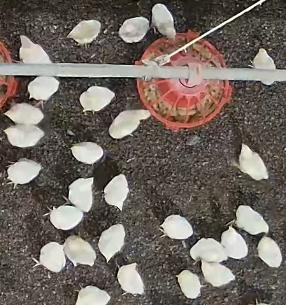chick: (234, 142, 270, 183), (108, 109, 152, 140), (229, 204, 270, 236), (63, 233, 97, 268), (35, 239, 68, 274), (18, 33, 51, 68), (102, 173, 130, 213), (250, 48, 278, 87), (64, 177, 95, 212), (200, 259, 237, 288), (97, 223, 125, 261), (26, 75, 60, 106), (116, 261, 145, 297), (7, 157, 40, 188), (3, 124, 47, 147), (189, 238, 226, 265), (78, 87, 115, 113), (151, 3, 177, 40), (67, 20, 100, 49), (117, 16, 150, 44), (256, 235, 282, 270), (6, 102, 42, 127), (45, 207, 84, 230), (158, 215, 191, 242), (221, 227, 248, 259), (73, 285, 111, 305), (176, 270, 201, 300), (70, 142, 102, 165)
rice: (137, 29, 231, 130)
